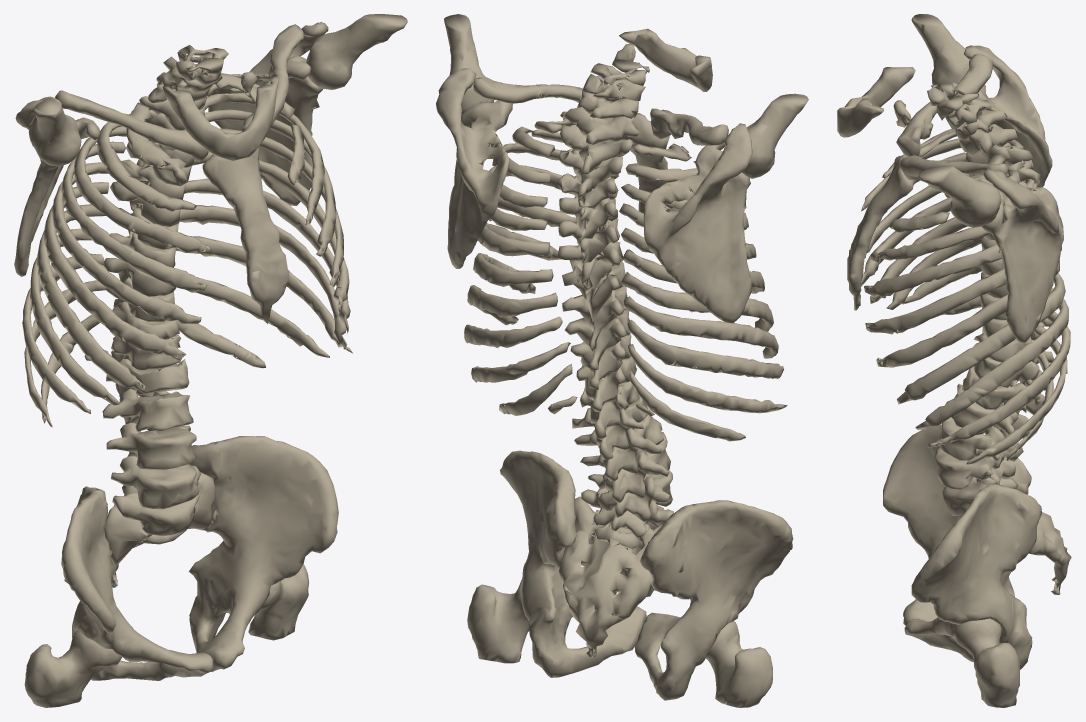
The model's file is tsd_s0196_older_adult_female.skeletal.LOD3.glb.
3 renders of one model, left to right at view 1: azimuth 30°, elevation 25°; view 2: azimuth 150°, elevation 25°; view 3: azimuth 270°, elevation 25°, orthographic. The views are drawn at different scales.
Visible parts, largest first — view 1: TSD_S0196.OLDER_ADULT.FEMALE.SKELETAL.HIP_BONE_OS_COXAE.L, TSD_S0196.OLDER_ADULT.FEMALE.SKELETAL.HIP_BONE_OS_COXAE.R, TSD_S0196.OLDER_ADULT.FEMALE.SKELETAL.STERNUM, TSD_S0196.OLDER_ADULT.FEMALE.SKELETAL.SCAPULA.L, TSD_S0196.OLDER_ADULT.FEMALE.SKELETAL.FEMUR.R, TSD_S0196.OLDER_ADULT.FEMALE.SKELETAL.SKULL, TSD_S0196.OLDER_ADULT.FEMALE.SKELETAL.HUMERUS.L, TSD_S0196.OLDER_ADULT.FEMALE.SKELETAL.RIB_6.R, TSD_S0196.OLDER_ADULT.FEMALE.SKELETAL.RIB_5.R, TSD_S0196.OLDER_ADULT.FEMALE.SKELETAL.RIB_7.R, TSD_S0196.OLDER_ADULT.FEMALE.SKELETAL.RIB_4.R, TSD_S0196.OLDER_ADULT.FEMALE.SKELETAL.SCAPULA.R (+37 smaller); view 2: TSD_S0196.OLDER_ADULT.FEMALE.SKELETAL.HIP_BONE_OS_COXAE.R, TSD_S0196.OLDER_ADULT.FEMALE.SKELETAL.SCAPULA.R, TSD_S0196.OLDER_ADULT.FEMALE.SKELETAL.HIP_BONE_OS_COXAE.L, TSD_S0196.OLDER_ADULT.FEMALE.SKELETAL.SCAPULA.L, TSD_S0196.OLDER_ADULT.FEMALE.SKELETAL.SACRUM, TSD_S0196.OLDER_ADULT.FEMALE.SKELETAL.FEMUR.L, TSD_S0196.OLDER_ADULT.FEMALE.SKELETAL.FEMUR.R, TSD_S0196.OLDER_ADULT.FEMALE.SKELETAL.SKULL, TSD_S0196.OLDER_ADULT.FEMALE.SKELETAL.RIB_8.R, TSD_S0196.OLDER_ADULT.FEMALE.SKELETAL.RIB_9.R, TSD_S0196.OLDER_ADULT.FEMALE.SKELETAL.HUMERUS.R, TSD_S0196.OLDER_ADULT.FEMALE.SKELETAL.RIB_10.R (+41 smaller); view 3: TSD_S0196.OLDER_ADULT.FEMALE.SKELETAL.HIP_BONE_OS_COXAE.L, TSD_S0196.OLDER_ADULT.FEMALE.SKELETAL.SCAPULA.L, TSD_S0196.OLDER_ADULT.FEMALE.SKELETAL.HIP_BONE_OS_COXAE.R, TSD_S0196.OLDER_ADULT.FEMALE.SKELETAL.SCAPULA.R, TSD_S0196.OLDER_ADULT.FEMALE.SKELETAL.FEMUR.L, TSD_S0196.OLDER_ADULT.FEMALE.SKELETAL.RIB_8.L, TSD_S0196.OLDER_ADULT.FEMALE.SKELETAL.HUMERUS.L, TSD_S0196.OLDER_ADULT.FEMALE.SKELETAL.RIB_7.L, TSD_S0196.OLDER_ADULT.FEMALE.SKELETAL.STERNUM, TSD_S0196.OLDER_ADULT.FEMALE.SKELETAL.SKULL, TSD_S0196.OLDER_ADULT.FEMALE.SKELETAL.RIB_9.L, TSD_S0196.OLDER_ADULT.FEMALE.SKELETAL.HUMERUS.R (+29 smaller).
Part boxes in pixels (left/top/right/bottom): TSD_S0196.OLDER_ADULT.FEMALE.SKELETAL.HIP_BONE_OS_COXAE.L: left=188, top=436, right=338, bottom=671; TSD_S0196.OLDER_ADULT.FEMALE.SKELETAL.HIP_BONE_OS_COXAE.R: left=61, top=486, right=213, bottom=680; TSD_S0196.OLDER_ADULT.FEMALE.SKELETAL.STERNUM: left=202, top=148, right=289, bottom=323; TSD_S0196.OLDER_ADULT.FEMALE.SKELETAL.SCAPULA.L: left=208, top=22, right=328, bottom=205; TSD_S0196.OLDER_ADULT.FEMALE.SKELETAL.FEMUR.R: left=24, top=630, right=122, bottom=707; TSD_S0196.OLDER_ADULT.FEMALE.SKELETAL.SKULL: left=162, top=71, right=279, bottom=160; TSD_S0196.OLDER_ADULT.FEMALE.SKELETAL.HUMERUS.L: left=306, top=14, right=407, bottom=89; TSD_S0196.OLDER_ADULT.FEMALE.SKELETAL.RIB_6.R: left=44, top=182, right=186, bottom=359; TSD_S0196.OLDER_ADULT.FEMALE.SKELETAL.RIB_5.R: left=52, top=162, right=201, bottom=323; TSD_S0196.OLDER_ADULT.FEMALE.SKELETAL.RIB_7.R: left=36, top=204, right=145, bottom=393; TSD_S0196.OLDER_ADULT.FEMALE.SKELETAL.RIB_4.R: left=61, top=141, right=206, bottom=291; TSD_S0196.OLDER_ADULT.FEMALE.SKELETAL.SCAPULA.R: left=14, top=96, right=100, bottom=276; TSD_S0196.OLDER_ADULT.FEMALE.SKELETAL.HIP_BONE_OS_COXAE.R: left=635, top=500, right=793, bottom=700; TSD_S0196.OLDER_ADULT.FEMALE.SKELETAL.SCAPULA.R: left=643, top=123, right=752, bottom=323; TSD_S0196.OLDER_ADULT.FEMALE.SKELETAL.HIP_BONE_OS_COXAE.L: left=500, top=450, right=646, bottom=677; TSD_S0196.OLDER_ADULT.FEMALE.SKELETAL.SCAPULA.L: left=436, top=68, right=512, bottom=268; TSD_S0196.OLDER_ADULT.FEMALE.SKELETAL.SACRUM: left=558, top=496, right=662, bottom=657; TSD_S0196.OLDER_ADULT.FEMALE.SKELETAL.FEMUR.L: left=467, top=578, right=529, bottom=663; TSD_S0196.OLDER_ADULT.FEMALE.SKELETAL.FEMUR.R: left=705, top=621, right=772, bottom=707; TSD_S0196.OLDER_ADULT.FEMALE.SKELETAL.SKULL: left=614, top=28, right=712, bottom=91; TSD_S0196.OLDER_ADULT.FEMALE.SKELETAL.RIB_8.R: left=623, top=296, right=778, bottom=358; TSD_S0196.OLDER_ADULT.FEMALE.SKELETAL.RIB_9.R: left=627, top=319, right=783, bottom=378; TSD_S0196.OLDER_ADULT.FEMALE.SKELETAL.HUMERUS.R: left=742, top=93, right=808, bottom=178; TSD_S0196.OLDER_ADULT.FEMALE.SKELETAL.RIB_10.R: left=627, top=344, right=787, bottom=413; TSD_S0196.OLDER_ADULT.FEMALE.SKELETAL.HIP_BONE_OS_COXAE.L: left=904, top=483, right=1041, bottom=669; TSD_S0196.OLDER_ADULT.FEMALE.SKELETAL.SCAPULA.L: left=974, top=169, right=1063, bottom=343; TSD_S0196.OLDER_ADULT.FEMALE.SKELETAL.HIP_BONE_OS_COXAE.R: left=883, top=424, right=1031, bottom=625; TSD_S0196.OLDER_ADULT.FEMALE.SKELETAL.SCAPULA.R: left=948, top=45, right=1052, bottom=187; TSD_S0196.OLDER_ADULT.FEMALE.SKELETAL.FEMUR.L: left=953, top=618, right=1019, bottom=707; TSD_S0196.OLDER_ADULT.FEMALE.SKELETAL.RIB_8.L: left=915, top=288, right=1068, bottom=430; TSD_S0196.OLDER_ADULT.FEMALE.SKELETAL.HUMERUS.L: left=918, top=165, right=1001, bottom=227; TSD_S0196.OLDER_ADULT.FEMALE.SKELETAL.RIB_7.L: left=897, top=273, right=1065, bottom=404; TSD_S0196.OLDER_ADULT.FEMALE.SKELETAL.STERNUM: left=847, top=155, right=916, bottom=310; TSD_S0196.OLDER_ADULT.FEMALE.SKELETAL.SKULL: left=837, top=67, right=915, bottom=137; TSD_S0196.OLDER_ADULT.FEMALE.SKELETAL.RIB_9.L: left=927, top=311, right=1070, bottom=447; TSD_S0196.OLDER_ADULT.FEMALE.SKELETAL.HUMERUS.R: left=911, top=14, right=970, bottom=89.
Size of the model in its own units: 0.3492 by 0.5512 by 0.2083.
